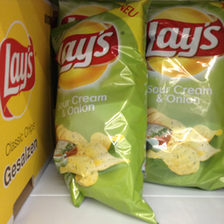chips: (53, 3, 155, 221), (144, 4, 223, 191)
